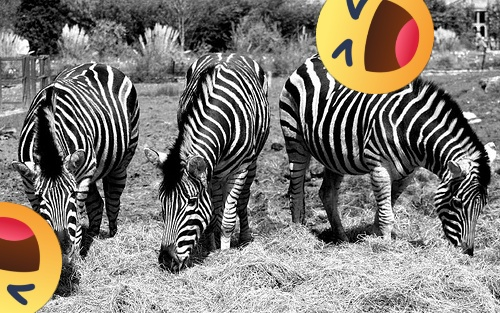haha: (316, 0, 434, 94), (0, 202, 62, 313)
